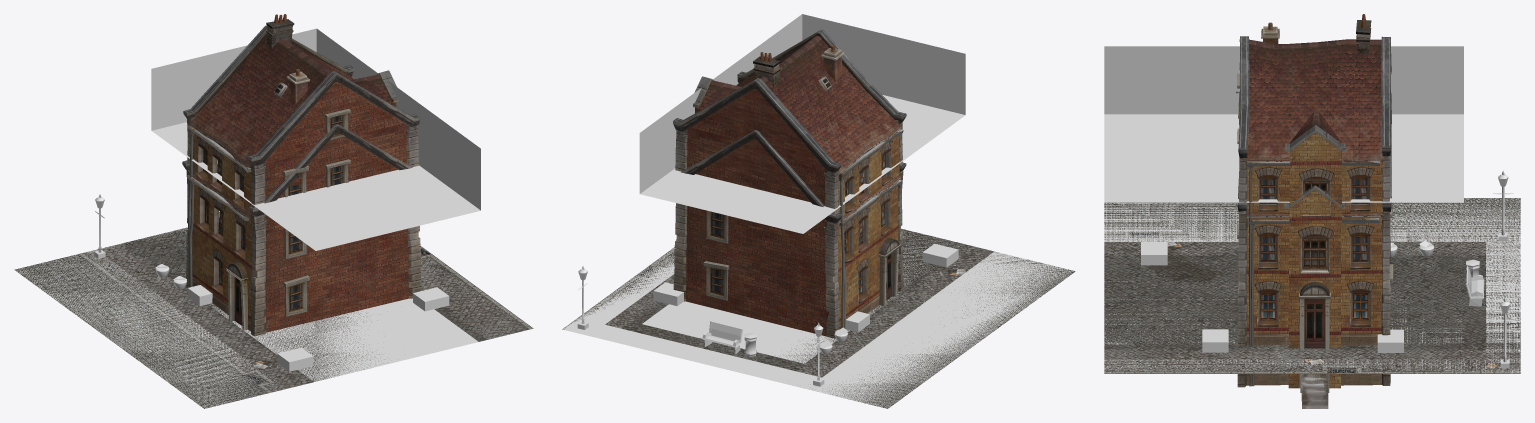
File: worker_scraper_narrow.gltf
3 views of the same model, side by side, from view 1: azimuth 30°, elevation 25°; view 2: azimuth 150°, elevation 25°; view 3: azimuth 270°, elevation 25° (orthographic). The views are drawn at different scales.
Parts seen in each view (by area): view 1: _3f_lod0, ground, 3fbox, FeedbackBlocker.001, UnevenBlocker, _2f_lod0, fc_feedback_door_1, fc_feedback_door_3; view 2: _3f_lod0, 3fbox, ground, FeedbackBlocker.001, UnevenBlocker, _2f_lod0, FeedbackBlocker.002, FeedbackBlocker, prop_bench1, fc_feedback_door_3, fc_feedback_door_2; view 3: _3f_lod0, ground, 3fbox, FeedbackBlocker.001, FeedbackBlocker.002, _2f_lod0, FeedbackBlocker, UnevenBlocker, fc_feedback_door_1, fc_feedback_door_3, fc_feedback_door_2, prop_bench1.
Part boxes in pixels (x1,y1,x2,y2): _3f_lod0: [183, 14, 421, 336]; ground: [14, 227, 533, 408]; 3fbox: [151, 28, 480, 250]; FeedbackBlocker.001: [15, 250, 282, 408]; UnevenBlocker: [209, 298, 478, 381]; _2f_lod0: [182, 124, 412, 287]; fc_feedback_door_1: [413, 287, 449, 311]; fc_feedback_door_3: [277, 347, 313, 371]; _3f_lod0: [673, 30, 906, 338]; 3fbox: [639, 14, 965, 233]; ground: [562, 221, 1075, 408]; FeedbackBlocker.001: [807, 251, 1075, 408]; UnevenBlocker: [642, 229, 965, 363]; _2f_lod0: [681, 130, 906, 328]; FeedbackBlocker.002: [589, 324, 821, 388]; FeedbackBlocker: [563, 248, 674, 335]; prop_bench1: [701, 321, 743, 354]; fc_feedback_door_3: [922, 243, 958, 267]; fc_feedback_door_2: [653, 282, 683, 306]; _3f_lod0: [1237, 14, 1393, 408]; ground: [1104, 198, 1520, 373]; 3fbox: [1104, 46, 1463, 202]; FeedbackBlocker.001: [1104, 198, 1520, 241]; FeedbackBlocker.002: [1486, 242, 1520, 359]; _2f_lod0: [1236, 91, 1391, 386]; FeedbackBlocker: [1104, 359, 1520, 373]; UnevenBlocker: [1104, 261, 1463, 344]; fc_feedback_door_1: [1202, 329, 1228, 352]; fc_feedback_door_3: [1141, 242, 1167, 265]; fc_feedback_door_2: [1377, 329, 1403, 352]; prop_bench1: [1465, 266, 1484, 306].
Size of what is drawn, in the model's own units: 3 by 2.65 by 3.
3 materials, 3 textured.
